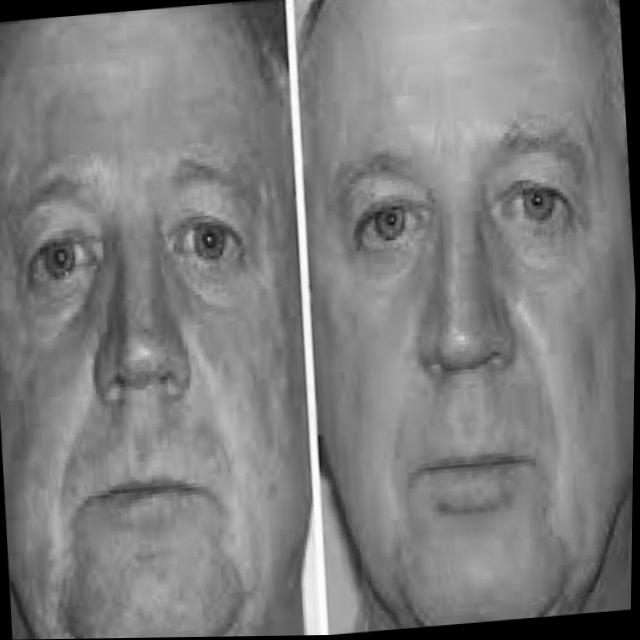Rosacea: (0, 21, 271, 177), (193, 318, 298, 473), (26, 325, 105, 473), (5, 534, 73, 615), (119, 243, 161, 346)
